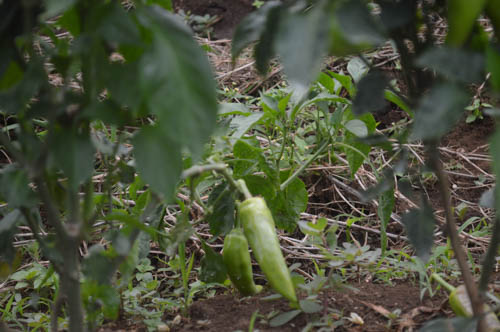ChiliPepper: (242, 198, 297, 301), (219, 234, 261, 300)
